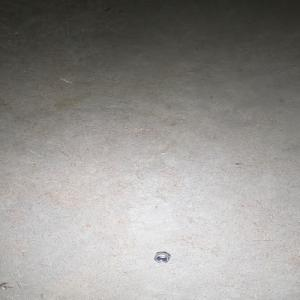Nut: (153, 252, 171, 263)
